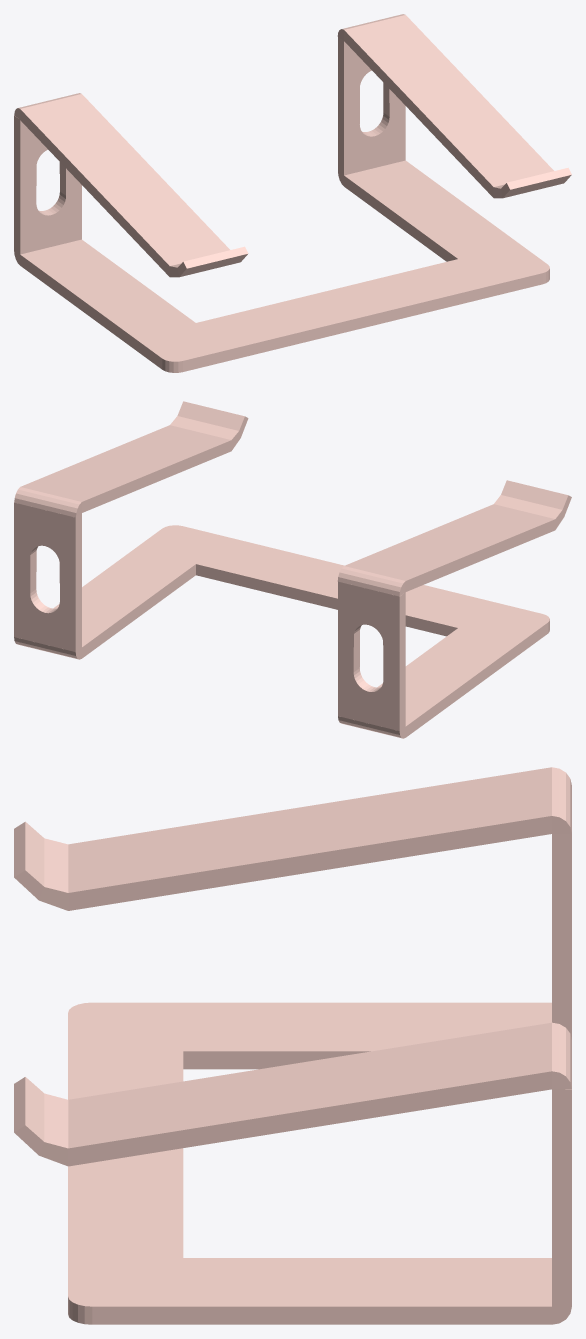
Rendered from stand.glb.
3 views of the same model, one above another, from view 1: azimuth 30°, elevation 25°; view 2: azimuth 150°, elevation 25°; view 3: azimuth 270°, elevation 25° (orthographic). The views are drawn at different scales.
Visible parts, largest first — view 1: Cube; view 2: Cube; view 3: Cube.
Part boxes in pixels (x1=…): Cube: x1=14, y1=14, x2=571, y2=372; Cube: x1=14, y1=401, x2=571, y2=738; Cube: x1=14, y1=767, x2=571, y2=1324.
Size of the model in its own units: 8.06 by 3.13 by 6.25.
